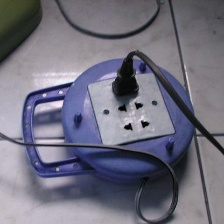three_eye_plug: (57, 50, 200, 186)
